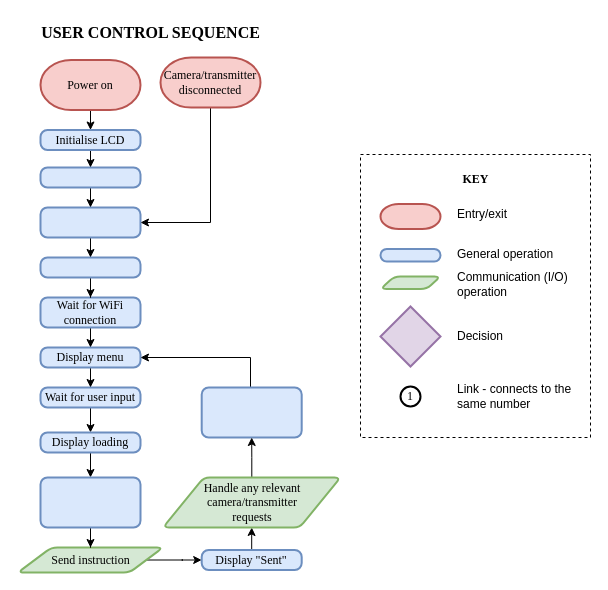
Image size: 608x590. Some labels were removed from this diagram. The shapes that lost their labels are listed below. From the top down, each one's centre as x and y in pixels, then its label:
(90,177): Initialise SD card
(90,222): Display "Connecting"
(90,267): Trigger RF linker
(251,412): Wait for confirmaton of completion
(90,502): Wait for instruction request from camera/transmitter
